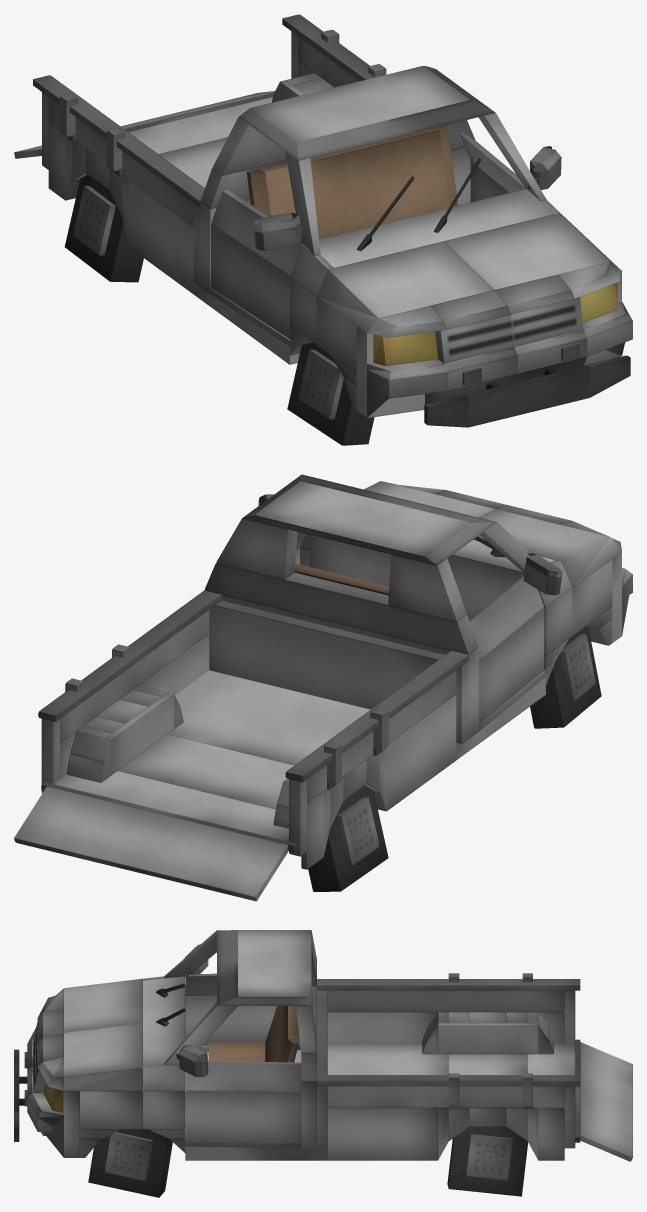
File: truck_wreckage6.obj
The picture shows the model from 3 angles, top to bottom: view 1: azimuth 30°, elevation 25°; view 2: azimuth 150°, elevation 25°; view 3: azimuth 270°, elevation 25°; orthographic projection. The views are drawn at different scales.
Parts seen in each view (by area): view 1: bodyModel82, bodyModel142, bodyModel63, bodyModel71, bodyModel80, bodyModel122, bodyModel58, bodyModel3, bodyModel15, bodyModel133, bodyModel14, bodyModel131 (+48 smaller); view 2: bodyModel13, bodyModel8, bodyModel82, bodyModel48, bodyModel128, bodyModel49, bodyModel80, bodyModel14, bodyModel58, bodyModel63, bodyModel122, bodyModel100 (+29 smaller); view 3: bodyModel82, bodyModel126, bodyModel45, bodyModel51, bodyModel13, bodyModel71, bodyModel9, bodyModel63, bodyModel48, bodyModel58, bodyModel127, bodyModel61 (+45 smaller).
Part boxes in pixels (x1,y1,x2,y2): bodyModel82: (239,66,495,160); bodyModel142: (258,128,449,239); bodyModel63: (316,241,494,332); bodyModel71: (444,213,621,289); bodyModel80: (319,189,553,267); bodyModel122: (211,224,289,338); bodyModel58: (129,180,199,298); bodyModel3: (465,365,589,427); bodyModel15: (33,75,204,207); bodyModel133: (64,174,143,282); bodyModel14: (128,97,272,153); bodyModel131: (287,342,374,445); bodyModel13: (14,786,288,901); bodyModel8: (209,600,468,743); bodyModel82: (242,474,496,565); bodyModel48: (167,670,370,765); bodyModel128: (205,563,478,654); bodyModel49: (118,734,294,809); bodyModel80: (310,535,554,620); bodyModel14: (53,771,288,841); bodyModel58: (386,694,456,810); bodyModel63: (473,509,621,587); bodyModel122: (478,608,544,724); bodyModel100: (38,590,221,721); bodyModel82: (217,930,311,1005); bodyModel126: (185,1090,301,1144); bodyModel45: (327,1108,438,1160); bodyModel51: (327,990,564,1012); bodyModel13: (579,1042,632,1161); bodyModel71: (64,1023,142,1091); bodyModel9: (327,1086,564,1107); bodyModel63: (64,978,142,1032); bodyModel48: (327,1044,448,1074); bodyModel58: (327,1012,438,1044); bodyModel127: (185,1060,301,1093); bodyModel61: (438,1023,538,1054).
Bounding box in the file's own units: 3.28 × 2.45 × 7.34.
Materials: 1 (1 with a texture image).
